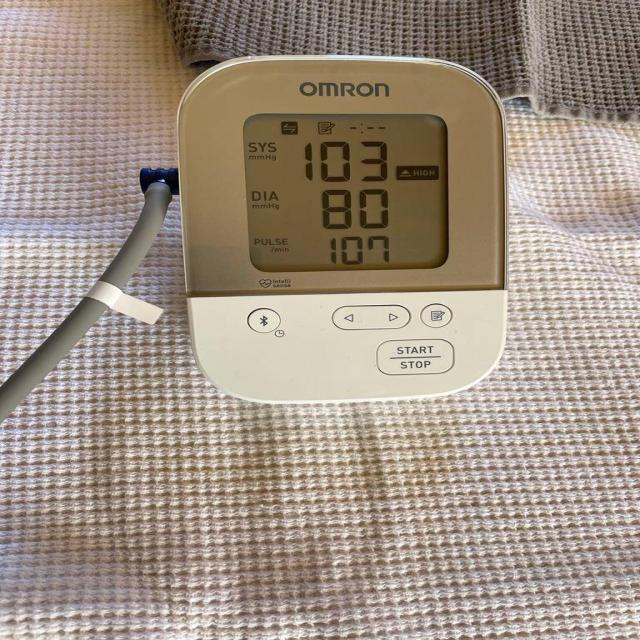bp: (177, 56, 508, 406)
